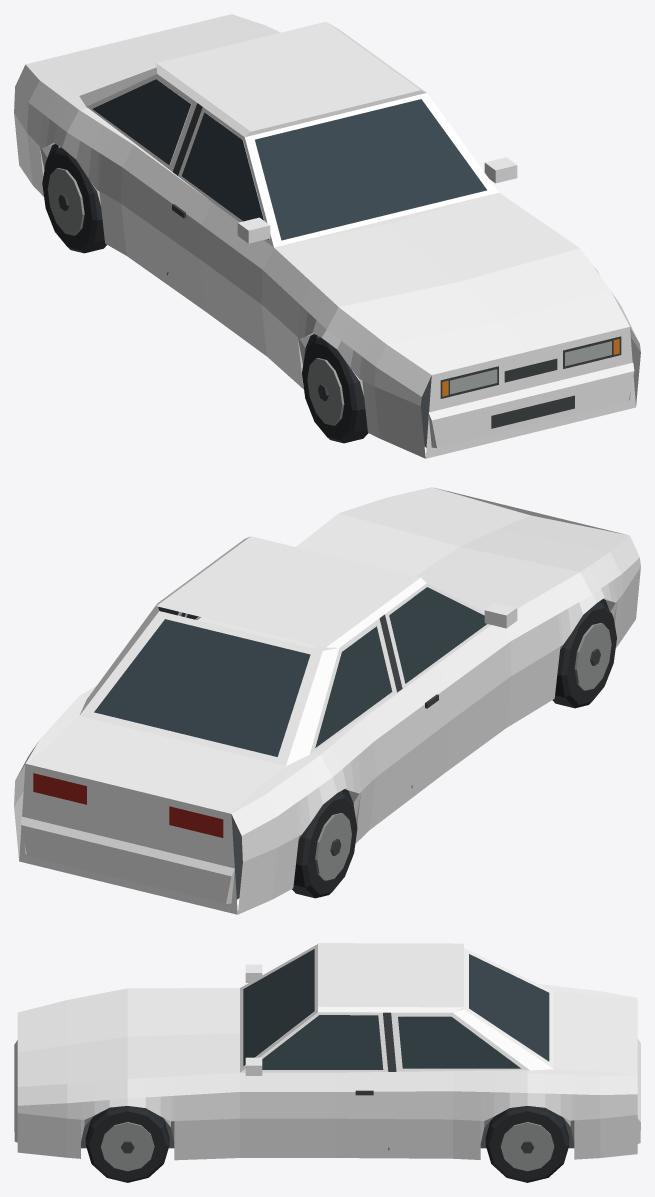
File: hozuki_byakko_s.glb
The picture shows the model from 3 angles, top to bottom: view 1: azimuth 30°, elevation 25°; view 2: azimuth 150°, elevation 25°; view 3: azimuth 270°, elevation 25°; orthographic projection. The views are drawn at different scales.
Parts seen in each view (by area): view 1: hozuki_byakko_s; view 2: hozuki_byakko_s; view 3: hozuki_byakko_s.
Part boxes in pixels (x1,y1,x2,y2): hozuki_byakko_s: (14, 14, 640, 458); hozuki_byakko_s: (14, 487, 640, 914); hozuki_byakko_s: (14, 943, 640, 1182).
Size of the model in its own units: 1.77 by 1.27 by 4.53.
8 materials, 1 textured.
